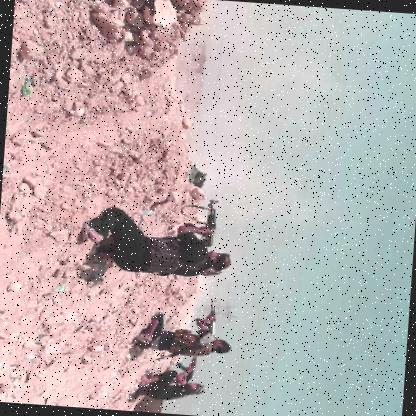rifle: (191, 198, 223, 252), (193, 297, 222, 340), (171, 353, 203, 387)
